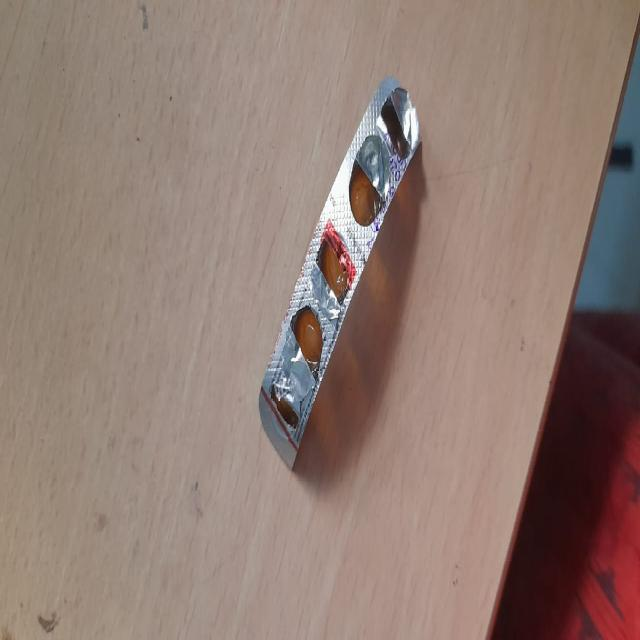Blister_Packs - Non Recyclable: (257, 74, 423, 472)
